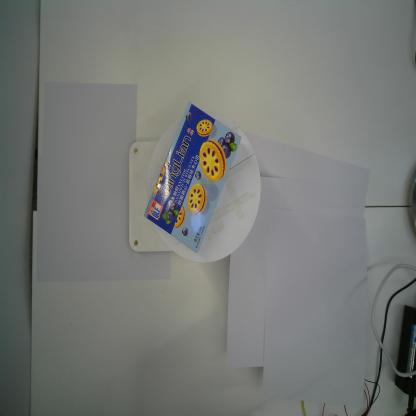Dessert: (142, 100, 242, 254)
